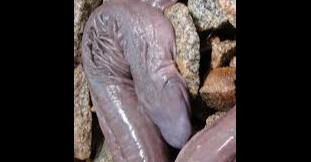Non_Gorille: (81, 0, 224, 162)
